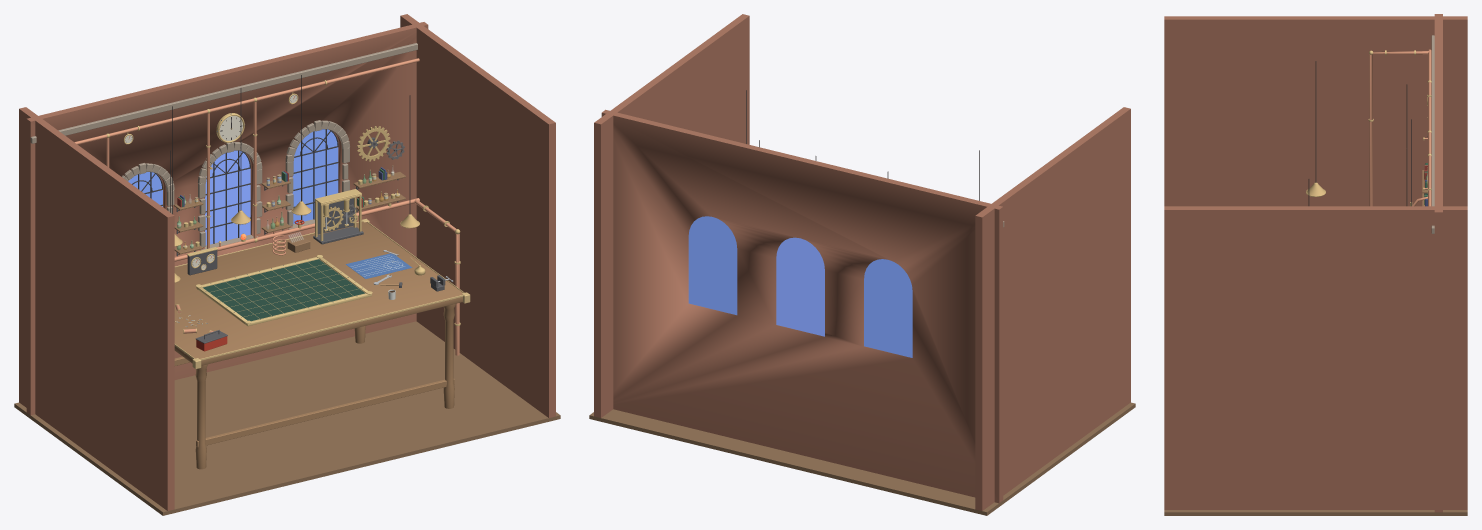
Rendered from workshop.glb.
The picture shows the model from 3 angles, left to right: view 1: azimuth 30°, elevation 25°; view 2: azimuth 150°, elevation 25°; view 3: azimuth 270°, elevation 25°; orthographic projection. The views are drawn at different scales.
Visible parts, largest first — view 1: room, bench, board_bed, pipes, props, shelves, machine, board_frame, board_grid, clock, gear_2; view 2: room; view 3: room, pipes, lamp_3.
Boxes of the visible parts, x1,y1,x2,y2 form: room: (14, 14, 560, 515); bench: (174, 218, 470, 469); board_bed: (203, 259, 364, 321); pipes: (74, 58, 460, 355); props: (175, 232, 453, 351); shelves: (174, 165, 405, 256); machine: (313, 137, 378, 244); board_frame: (195, 255, 372, 326); board_grid: (202, 259, 364, 318); clock: (216, 113, 245, 142); gear_2: (357, 126, 390, 161); room: (589, 14, 1135, 515); room: (1164, 14, 1467, 515); pipes: (1368, 49, 1431, 206); lamp_3: (1306, 61, 1325, 196).
Size of the model in its own units: 34 by 24.3 by 22.
